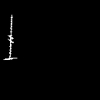treble_crochet: (5, 17, 12, 59)
